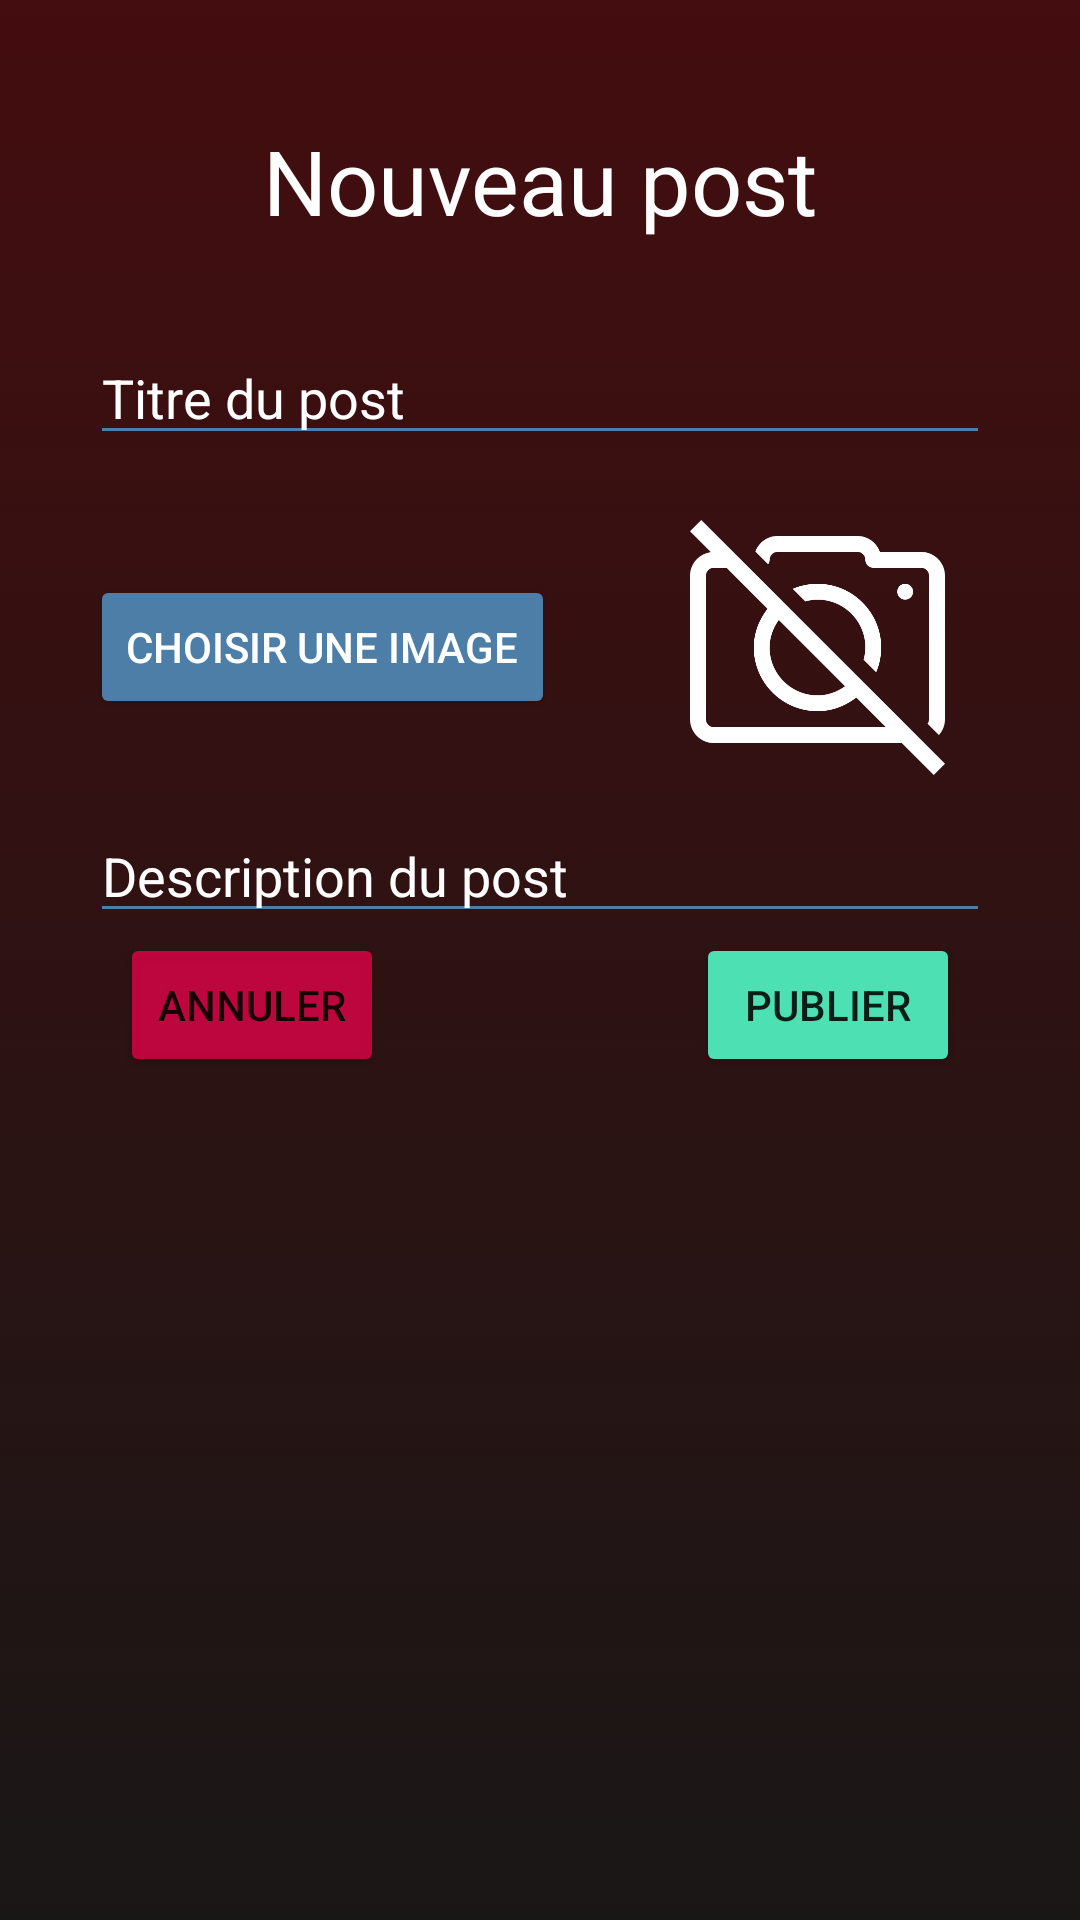

Where to tap for icons on this 1080×1920 app screen, as (x=x, y=y):
nophoto: (x=817, y=647)
